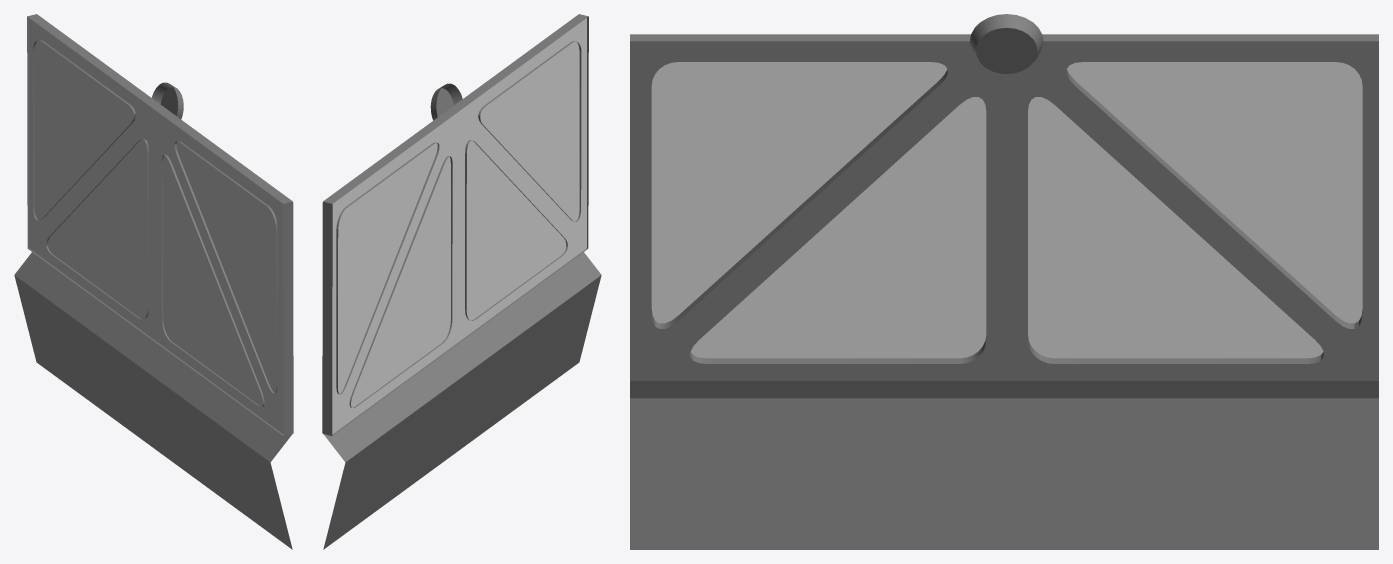
The model's file is q-scifi-mod-wallwindow-straight.glb.
The picture shows the model from 3 angles, left to right: view 1: azimuth 30°, elevation 25°; view 2: azimuth 150°, elevation 25°; view 3: azimuth 270°, elevation 25°; orthographic projection. The views are drawn at different scales.
Parts seen in each view (by area): view 1: WallWindow_Straight; view 2: WallWindow_Straight; view 3: WallWindow_Straight.
Boxes of the visible parts, <box> form: WallWindow_Straight: <box>14,14,293,549</box>; WallWindow_Straight: <box>322,14,601,549</box>; WallWindow_Straight: <box>630,14,1378,549</box>.
Size of the model in its own units: 0.3201 by 3.19 by 4.
Materials: 4 (3 with a texture image).
